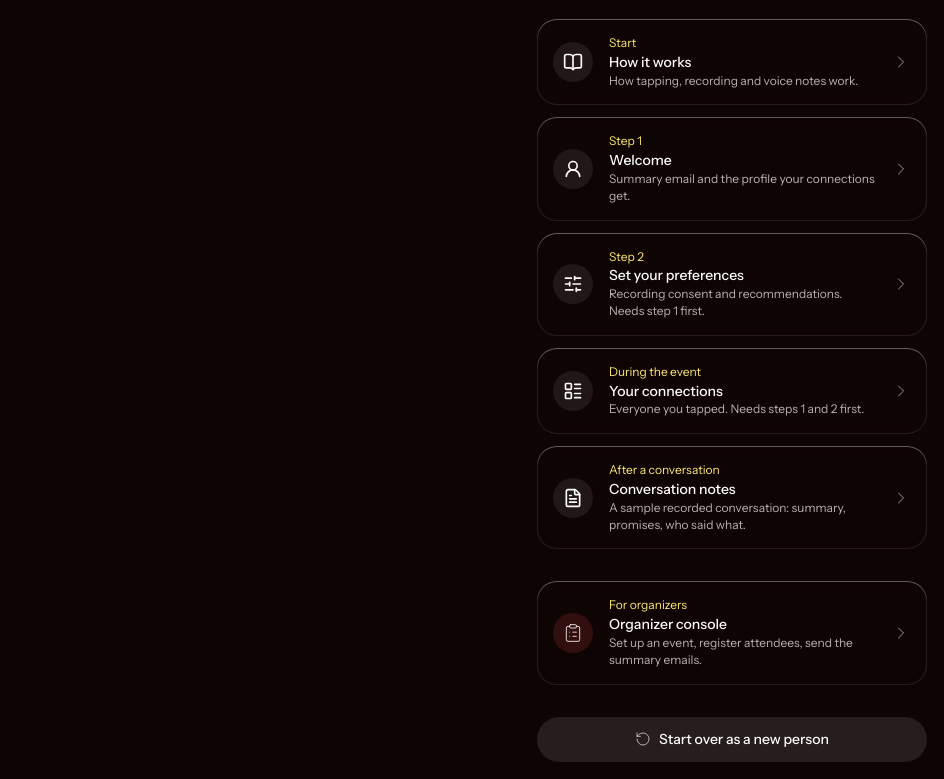
demo hub › start over signs out, clears saved data and opens step 1
(page scrolled)
Click the button "Start over as a new person". click: click(732, 739)
box: [537,716,927,762]
(page scrolled)
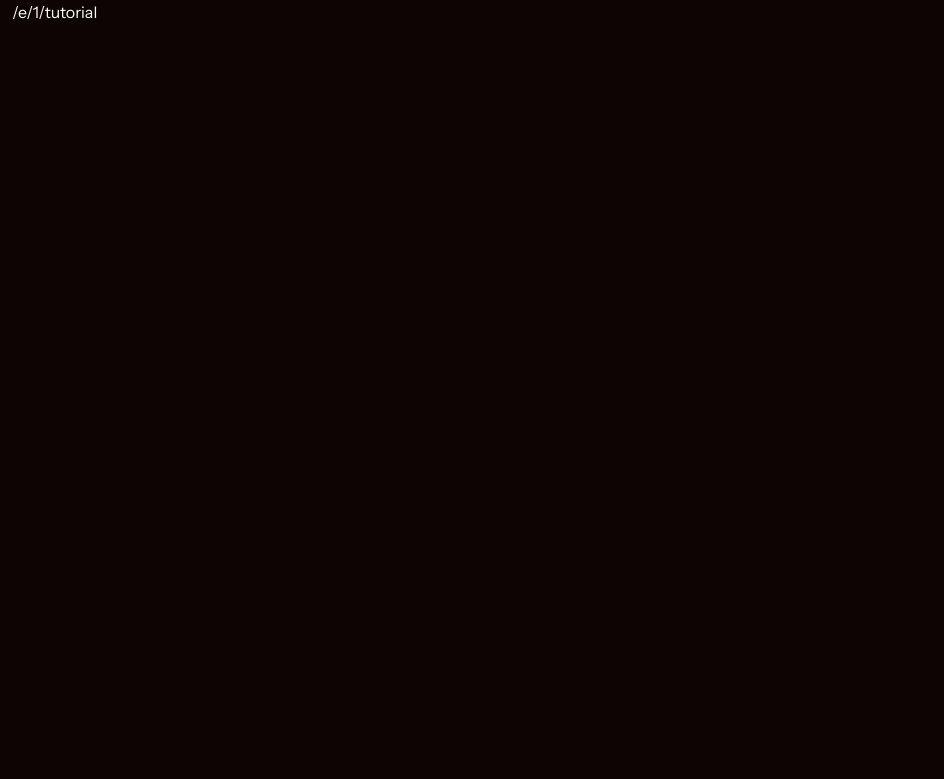
Now the text with test id "where" reads "/e/1/tutorial", box [12,2,97,22]
